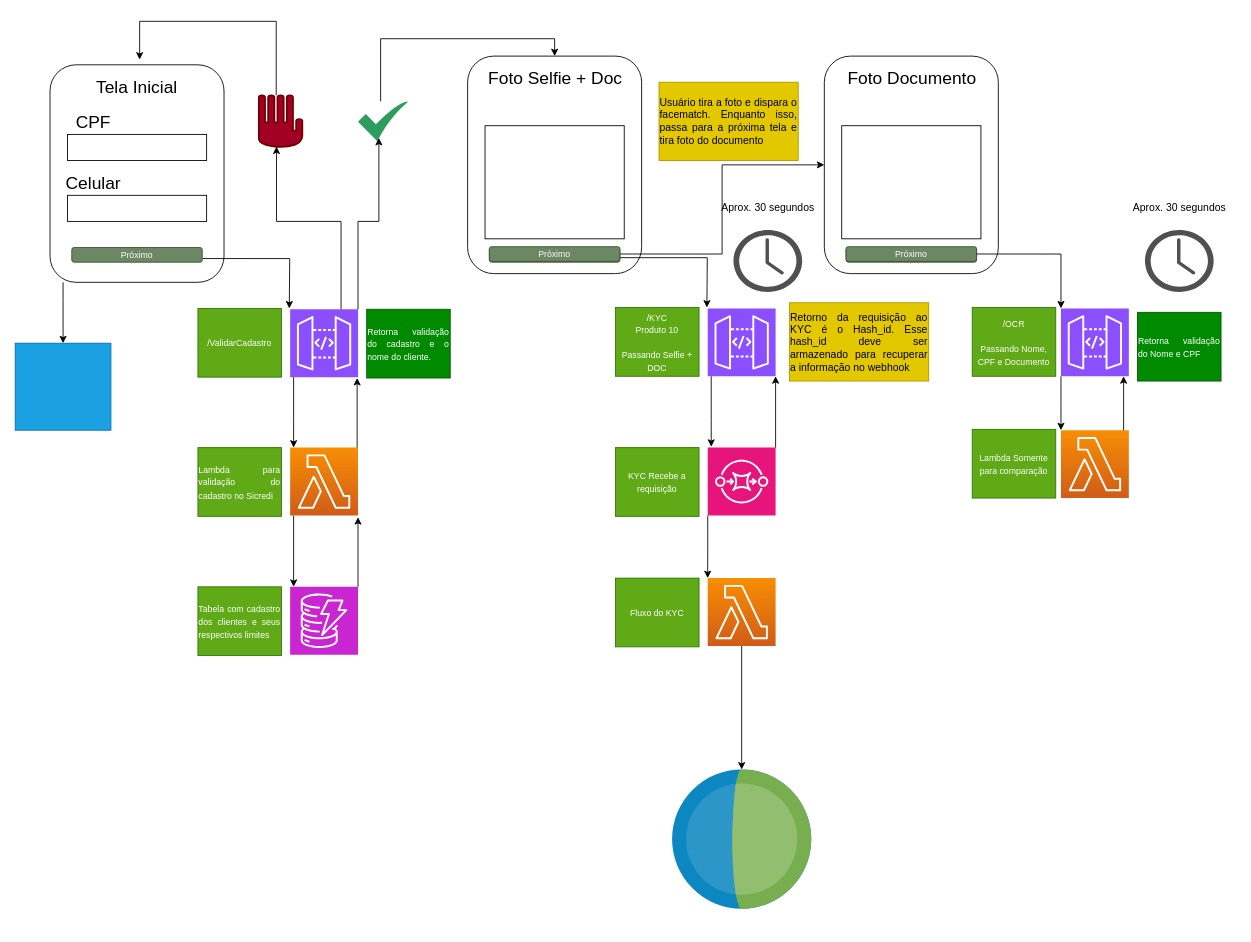
Some shapes in this 1251 by 942 pixel diagram are drawn without their labels. Here are the shapes that lost their labels. From the top down, the centre of each, then its label:
pixel 62 386: CPF/Celular Armazenados em variáveis
pixel 741 839: Webhook
